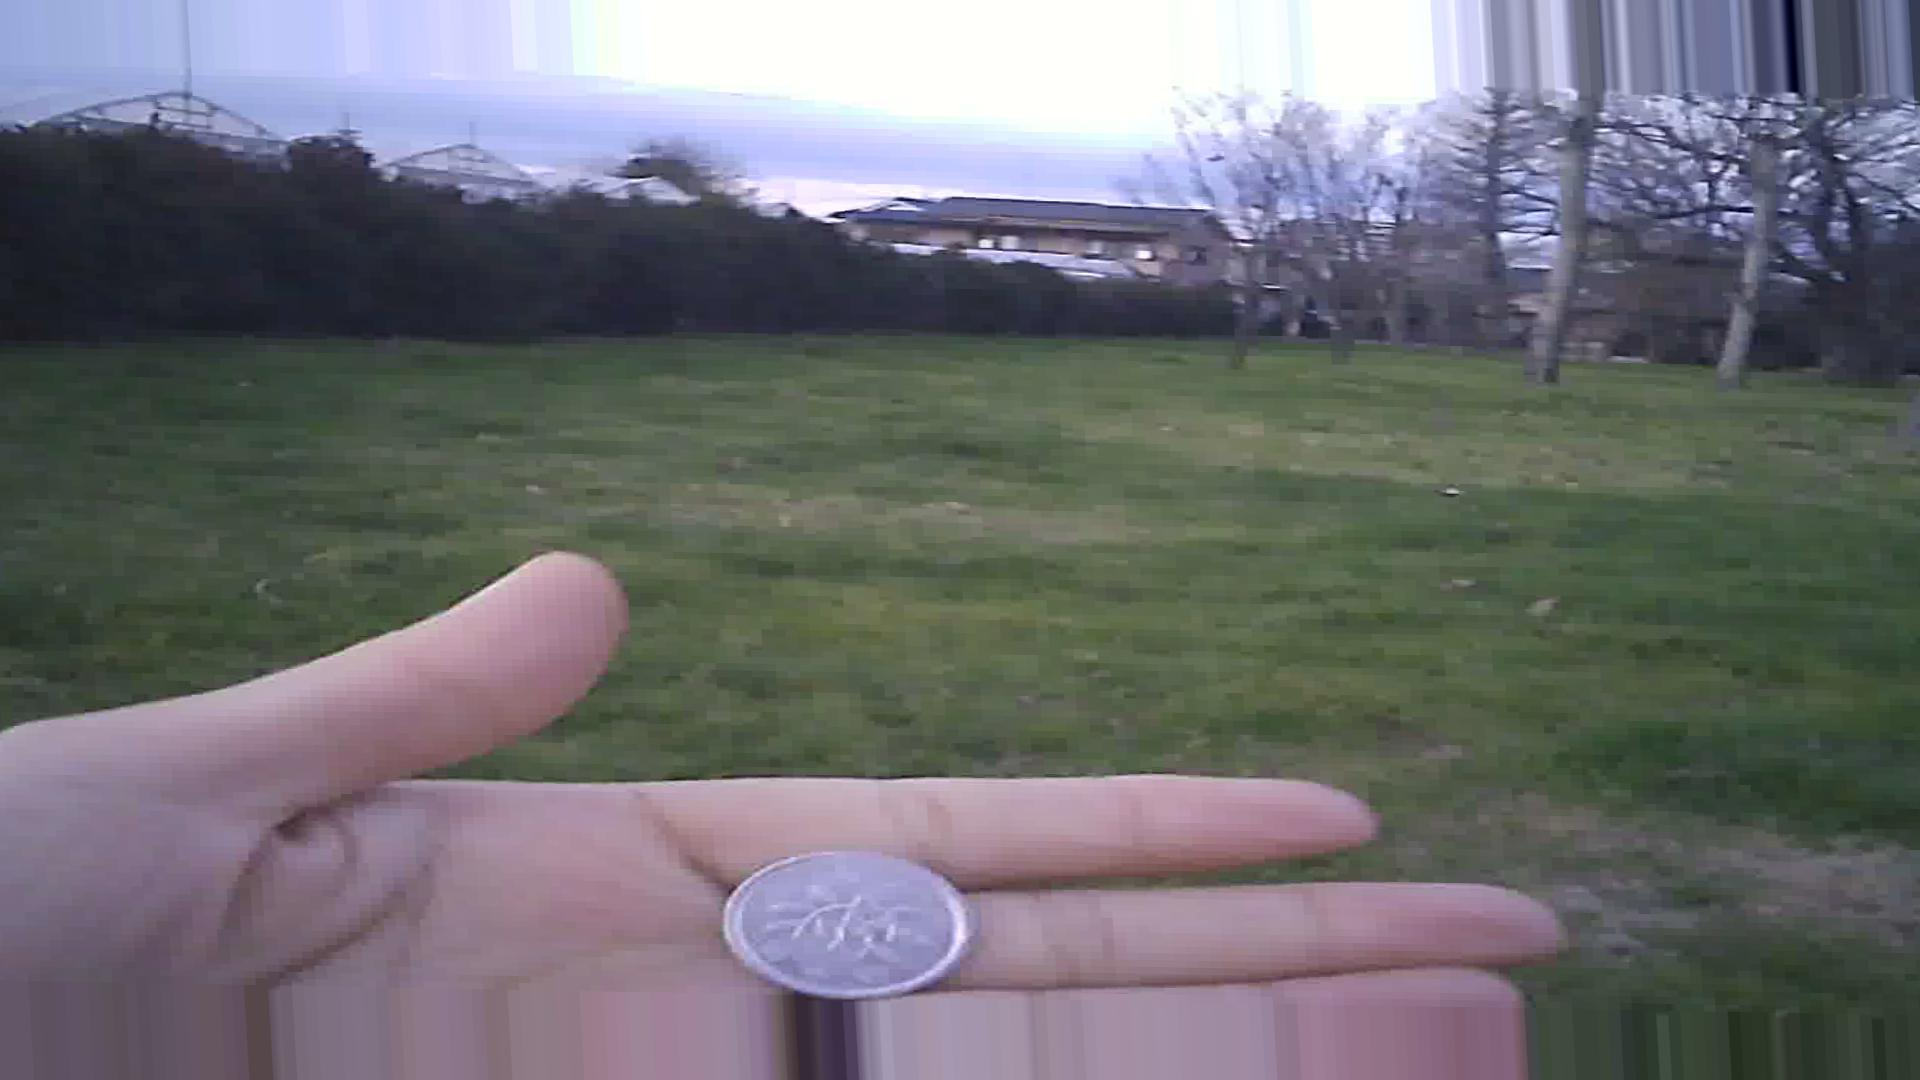1 Yen: (713, 847, 978, 1005)
